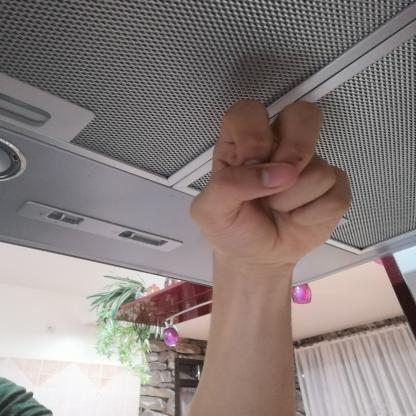QAAF: (178, 90, 360, 277)
